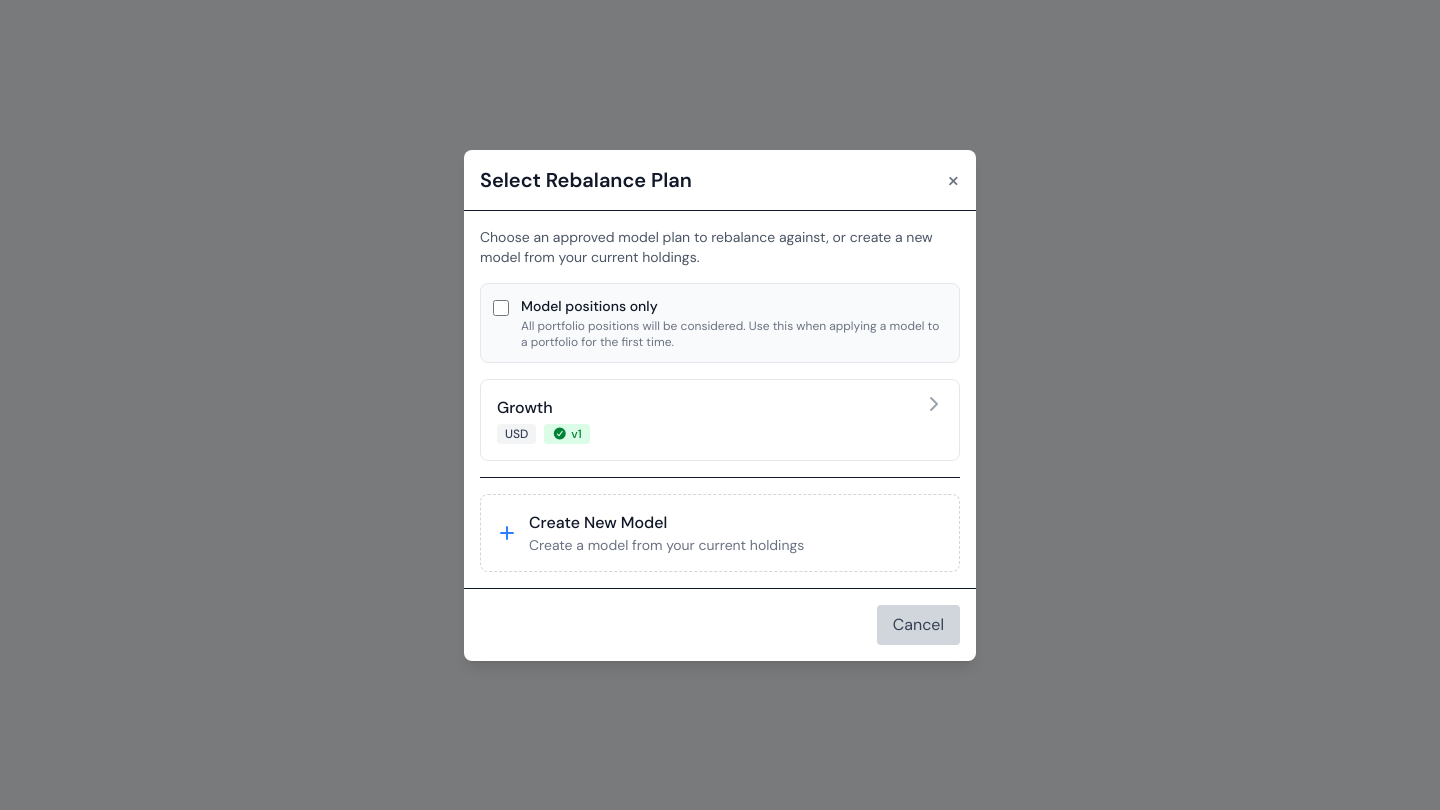
Test: SelectPlanDialog — fetch failure surfacing (#1157) › shows a visible error when the approved-plan fetch throws (network failure)
Click the text "Growth": (525,407) [497,396,553,418]
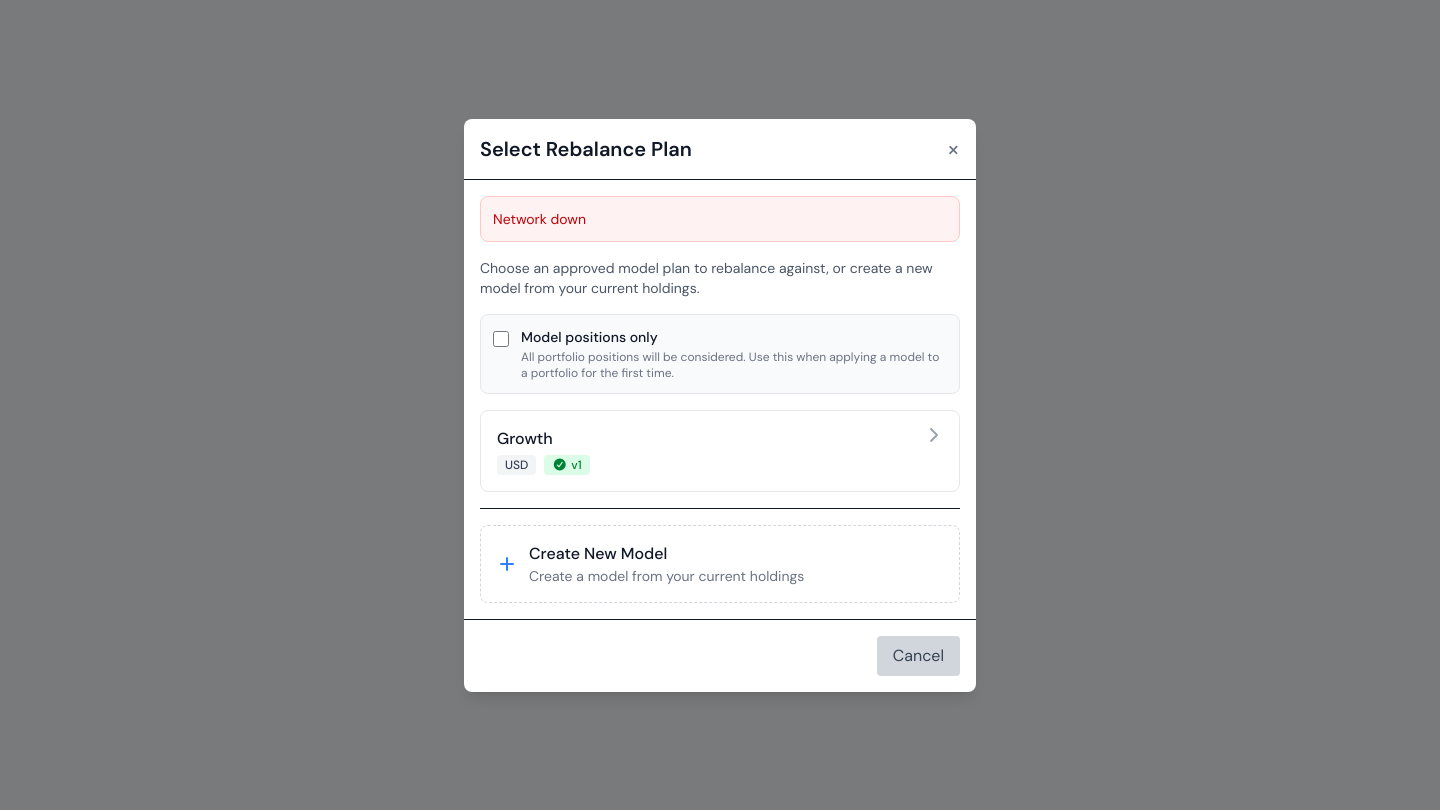
Check: the text "Network down" is shown, box [480,196,960,242]
